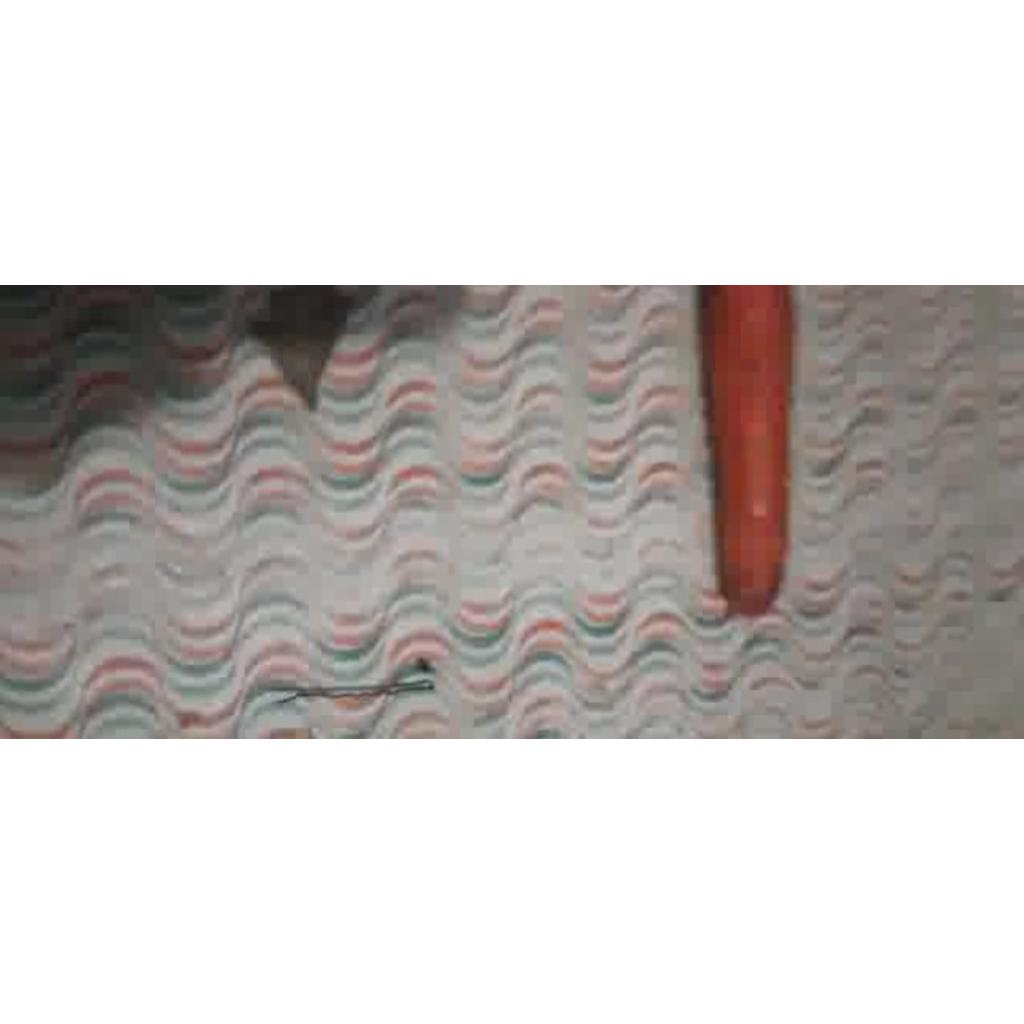carrot: (702, 285, 790, 614)
